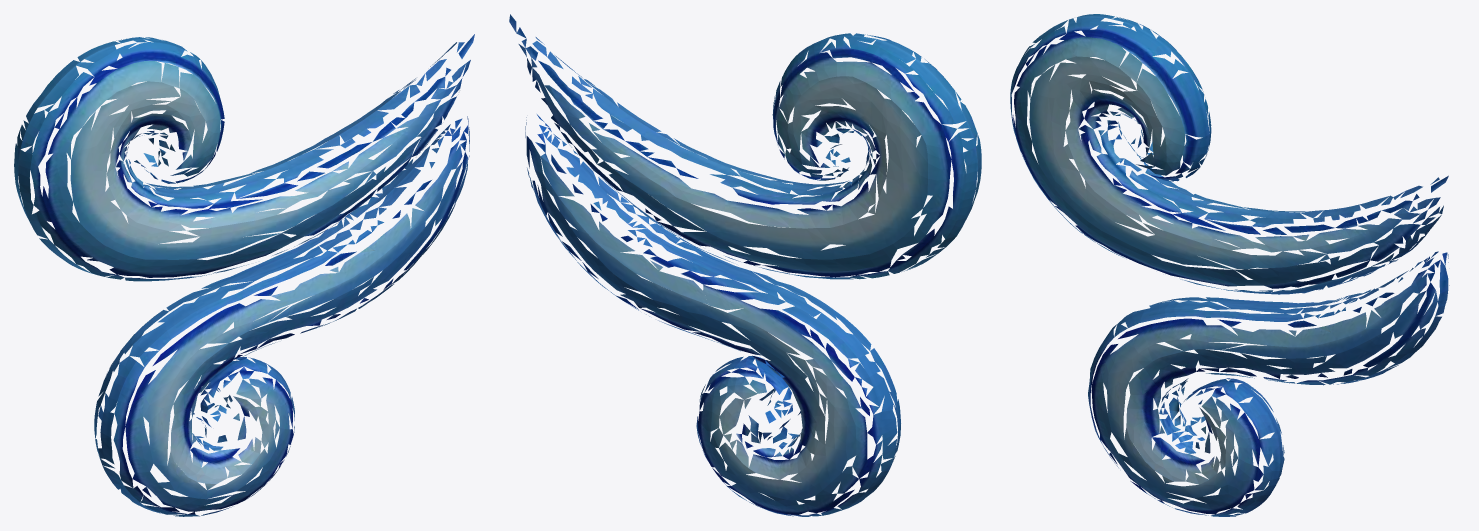
File: gust.glb
3 renders of one model, left to right at view 1: azimuth 30°, elevation 25°; view 2: azimuth 150°, elevation 25°; view 3: azimuth 330°, elevation 25°, orthographic. The views are drawn at different scales.
Visible parts, largest first — view 1: world.001; view 2: world.001; view 3: world.001.
Part boxes in pixels (left/top/right/bottom): world.001: left=14, top=34, right=474, bottom=516; world.001: left=509, top=14, right=981, bottom=516; world.001: left=1010, top=14, right=1449, bottom=516.
Bounding box in the file's own units: 0.9886 × 0.9999 × 0.1374.
Materials: 1 (1 with a texture image).
